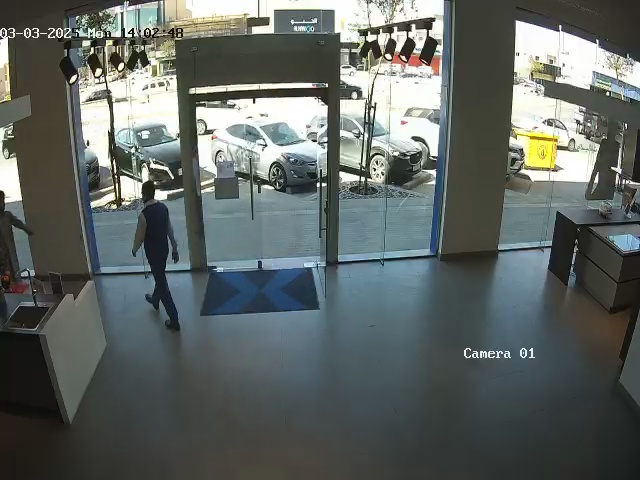employee: (131, 180, 181, 331)
male: (0, 190, 35, 280)
